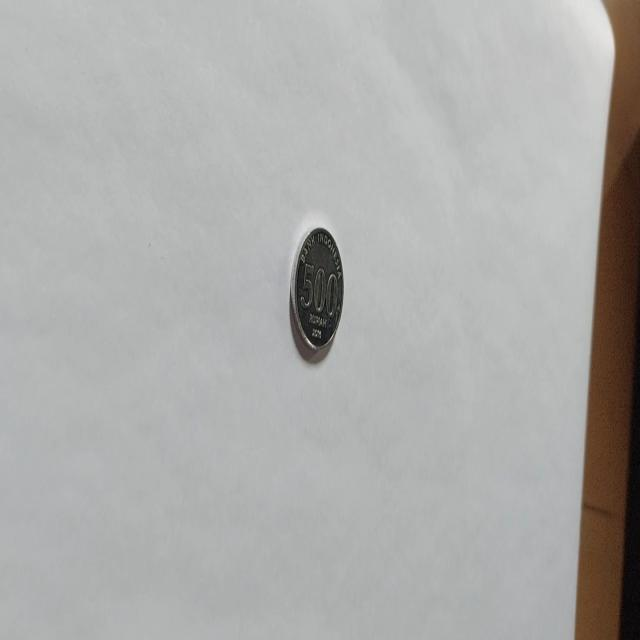lima ratus rupiah: (288, 225, 344, 363)
